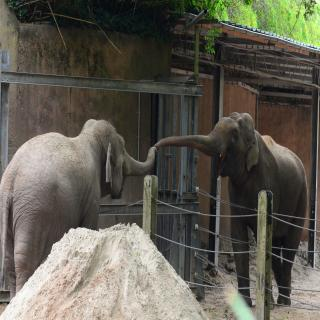Elephant: (155, 106, 309, 310), (0, 116, 158, 302)
